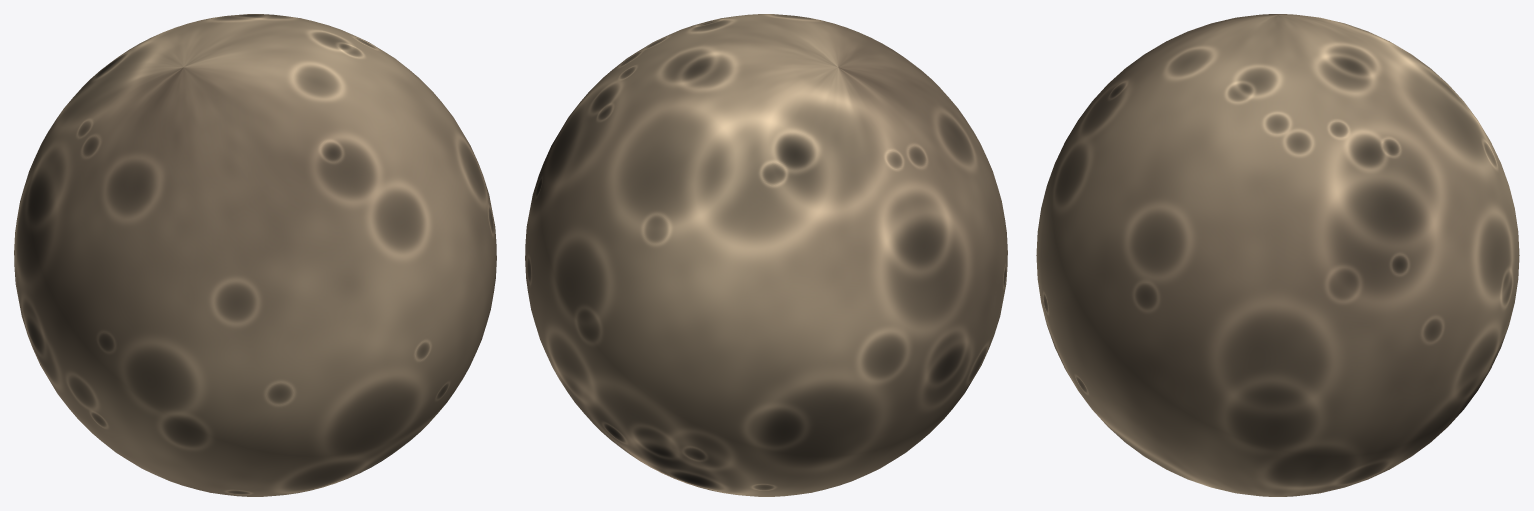
Rendered from kepler.glb.
3 views of the same model, side by side, from view 1: azimuth 30°, elevation 25°; view 2: azimuth 150°, elevation 25°; view 3: azimuth 270°, elevation 25° (orthographic).
Visible parts, largest first — view 1: Surface; view 2: Surface; view 3: Surface.
Part boxes in pixels (x1=…): Surface: x1=14, y1=14, x2=496, y2=496; Surface: x1=525, y1=14, x2=1007, y2=496; Surface: x1=1036, y1=14, x2=1519, y2=496.
Bounding box in the file's own units: 2 × 2 × 2.
1 material, 1 textured.
